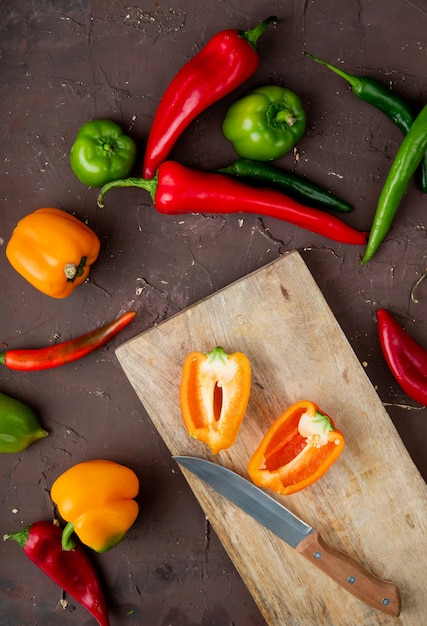knife: (172, 457, 404, 618)
